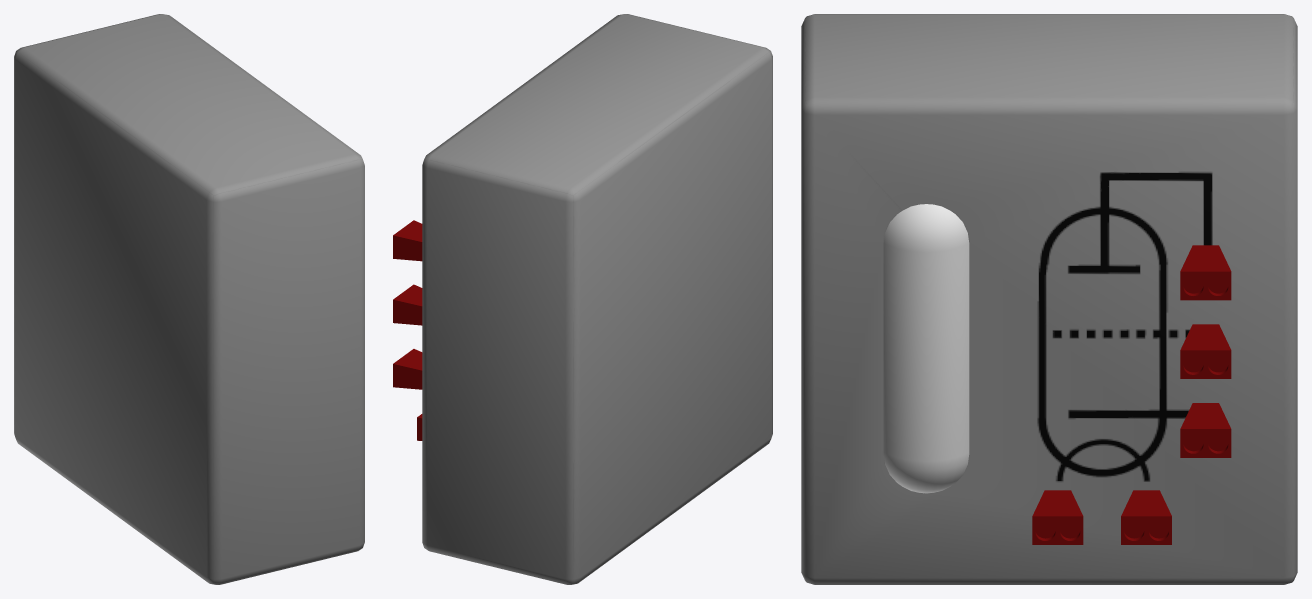
Rendered from Lamp.fbx.
3 views of the same model, side by side, from view 1: azimuth 30°, elevation 25°; view 2: azimuth 150°, elevation 25°; view 3: azimuth 270°, elevation 25° (orthographic). The views are drawn at different scales.
Parts seen in each view (by area): view 1: Lamp block; view 2: Lamp block, Cube.001; view 3: Lamp block, Flask, Cube.001.
Boxes of the visible parts, x1,y1,x2,y2 form: Lamp block: (14, 14, 364, 584); Lamp block: (422, 14, 772, 584); Cube.001: (393, 220, 422, 440); Lamp block: (801, 14, 1297, 584); Flask: (883, 204, 969, 493); Cube.001: (1032, 245, 1231, 544).
Bounding box in the file's own units: 124 × 226 × 209.
